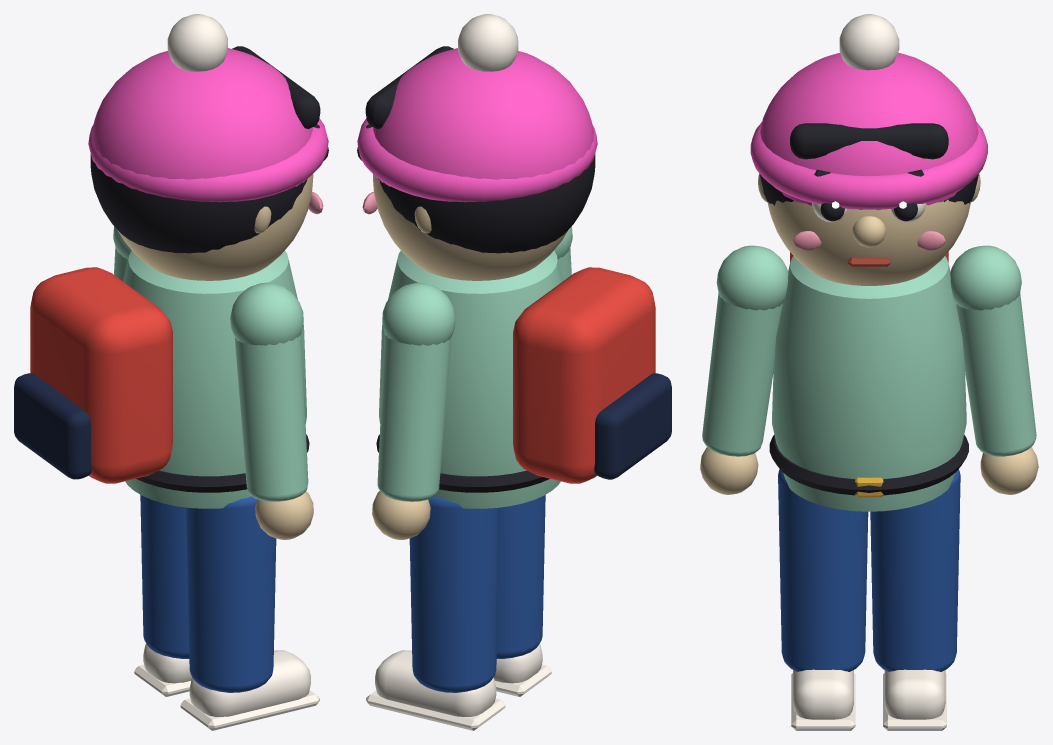
Rendered from ped_student.glb.
3 renders of one model, left to right at view 1: azimuth 30°, elevation 25°; view 2: azimuth 150°, elevation 25°; view 3: azimuth 270°, elevation 25°, orthographic.
Parts seen in each view (by area): view 1: ped_student; view 2: ped_student; view 3: ped_student.
Boxes of the visible parts, x1,y1,x2,y2 form: ped_student: (14, 14, 328, 730); ped_student: (357, 14, 671, 730); ped_student: (700, 14, 1038, 730).
Bounding box in the file's own units: 0.6222 × 1.49 × 0.6761.
1 material, 1 textured.
